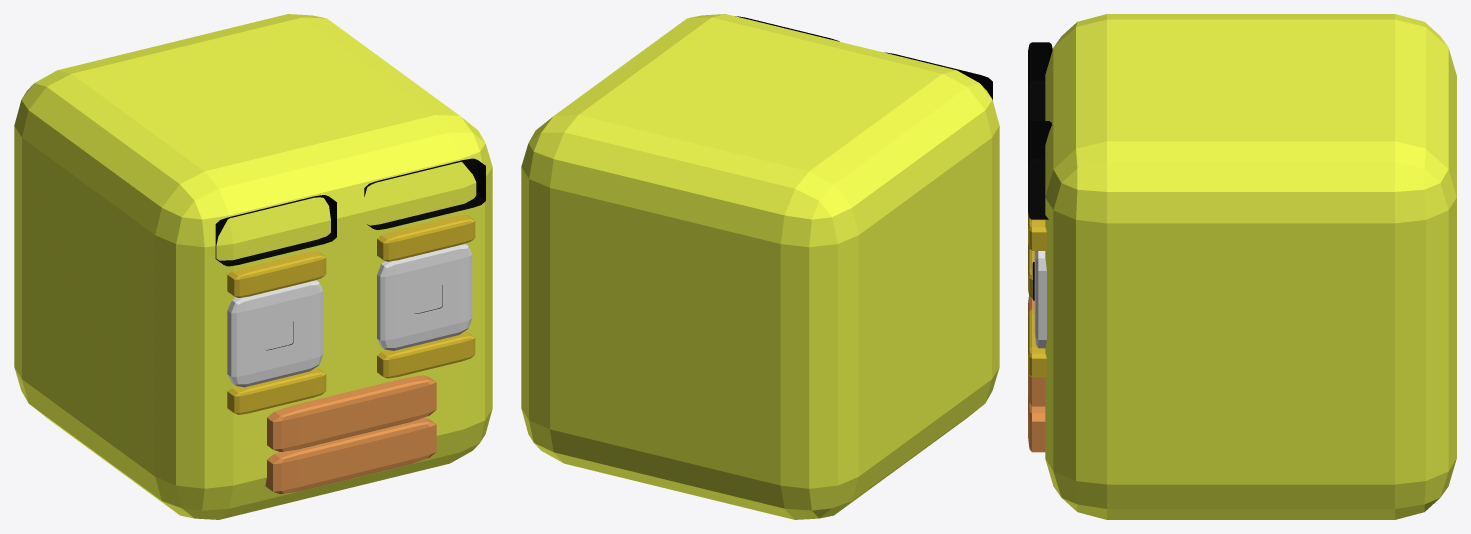
The model's file is headped.glb.
3 renders of one model, left to right at view 1: azimuth 30°, elevation 25°; view 2: azimuth 150°, elevation 25°; view 3: azimuth 270°, elevation 25°, orthographic. The views are drawn at different scales.
Parts seen in each view (by area): view 1: Cube; view 2: Cube; view 3: Cube.
Part boxes in pixels (<box>): Cube: <box>14,14,492,519</box>; Cube: <box>521,14,999,519</box>; Cube: <box>1028,14,1456,519</box>.
Size of the model in its own units: 1 by 1 by 1.04.
